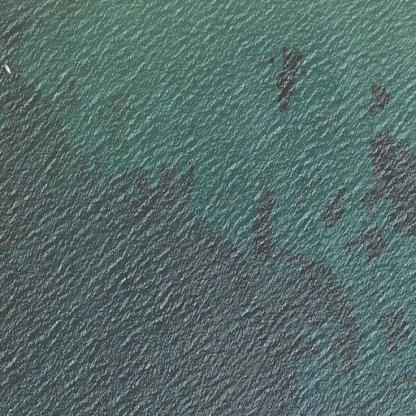ship: (2, 61, 11, 75)
